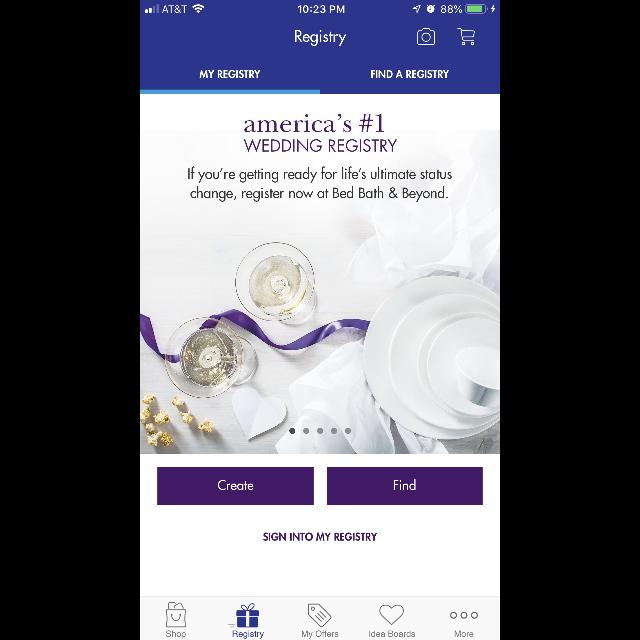icon: (228, 603, 260, 627), (308, 604, 332, 628), (166, 602, 186, 628), (380, 605, 404, 625), (417, 28, 435, 46), (458, 28, 474, 46), (450, 612, 478, 618)
image: (140, 130, 500, 453)
pageindicator: (289, 428, 351, 434)
text: (188, 166, 452, 202), (245, 114, 398, 152), (263, 533, 377, 541), (296, 30, 346, 46), (371, 70, 449, 78), (200, 70, 260, 78), (369, 630, 415, 638), (302, 630, 338, 638), (232, 630, 264, 638), (166, 630, 186, 638), (454, 631, 474, 637)
textbutton: (327, 467, 483, 505), (158, 467, 314, 505)
uppertaskbar: (140, 0, 500, 14)
